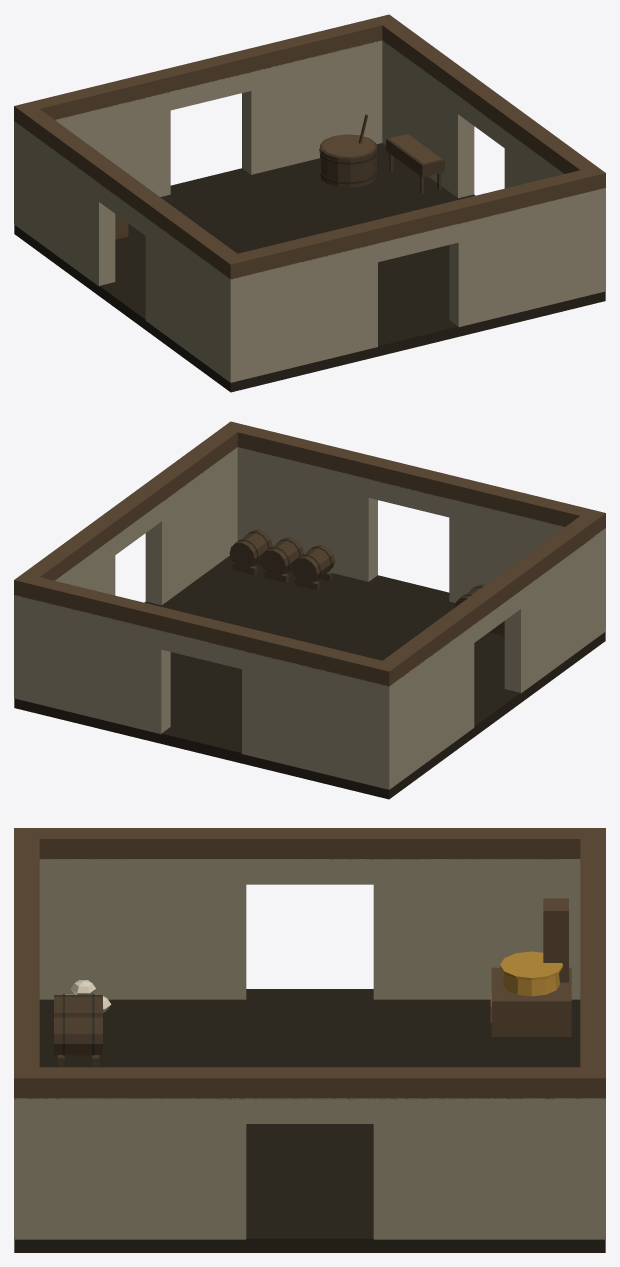
The model's file is LateBrewhouse.fbx.
3 views of the same model, one above another, from view 1: azimuth 30°, elevation 25°; view 2: azimuth 150°, elevation 25°; view 3: azimuth 270°, elevation 25° (orthographic). The views are drawn at different scales.
Parts seen in each view (by area): view 1: LateBrewhouse; view 2: LateBrewhouse; view 3: LateBrewhouse.
Part boxes in pixels (left/top/right/bottom): LateBrewhouse: left=14, top=14, right=605, bottom=392; LateBrewhouse: left=14, top=421, right=605, bottom=799; LateBrewhouse: left=14, top=828, right=605, bottom=1252.
Size of the model in its own units: 1202 by 392 by 1202.
Materials: 8 (8 with a texture image).
